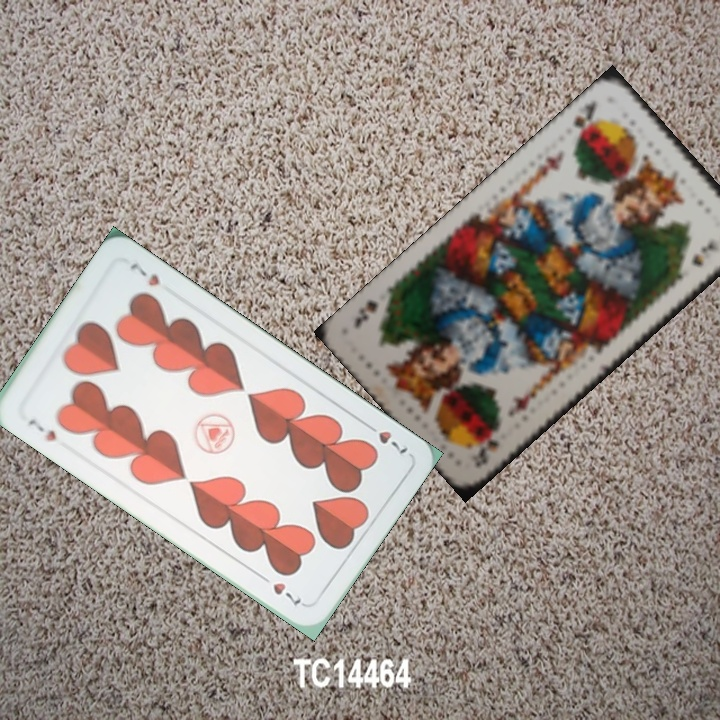H7: (359, 418, 411, 457), (24, 414, 59, 445)
SK: (568, 96, 599, 143), (468, 430, 503, 470)
